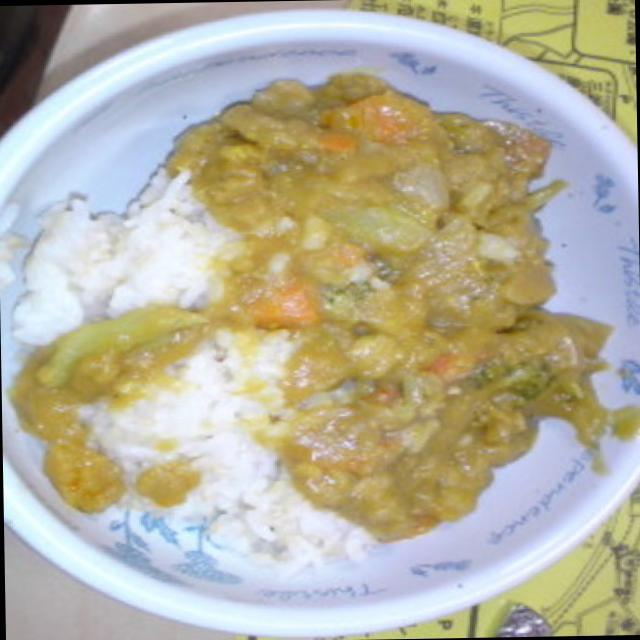Beef Curry: (281, 117, 508, 474)
